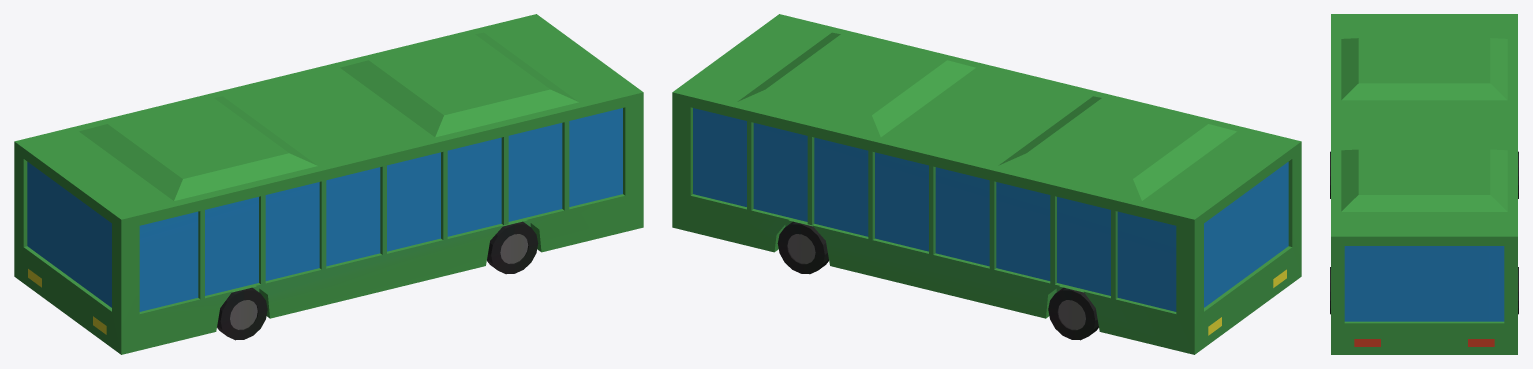
The model's file is Bus.fbx.
3 renders of one model, left to right at view 1: azimuth 30°, elevation 25°; view 2: azimuth 150°, elevation 25°; view 3: azimuth 270°, elevation 25°, orthographic. The views are drawn at different scales.
Parts seen in each view (by area): view 1: BusBodyColor, BusBody, BusTires; view 2: BusBodyColor, BusBody, BusTires; view 3: BusBodyColor, BusBody, BusTires.
Boxes of the visible parts, box(x1,y1,x2,y2) form: BusBodyColor: box(14, 14, 643, 354); BusBody: box(27, 108, 622, 334); BusTires: box(217, 221, 538, 340); BusBodyColor: box(672, 14, 1301, 354); BusBody: box(693, 108, 1288, 335); BusTires: box(777, 221, 1098, 340); BusBodyColor: box(1331, 14, 1517, 354); BusBody: box(1344, 246, 1504, 346); BusTires: box(1330, 151, 1518, 314).
Bounding box in the file's own units: 599 × 175 × 215.
